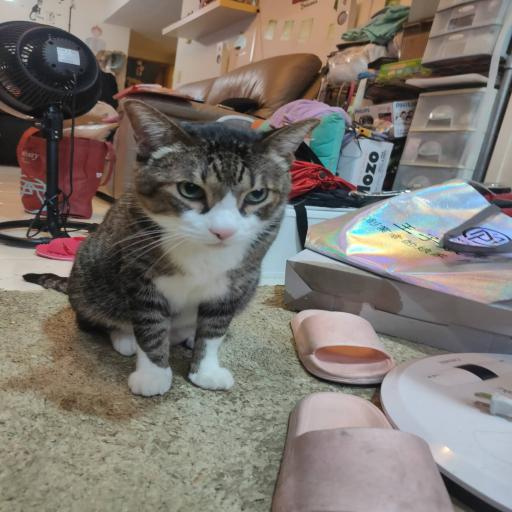cat: (83, 99, 290, 400)
